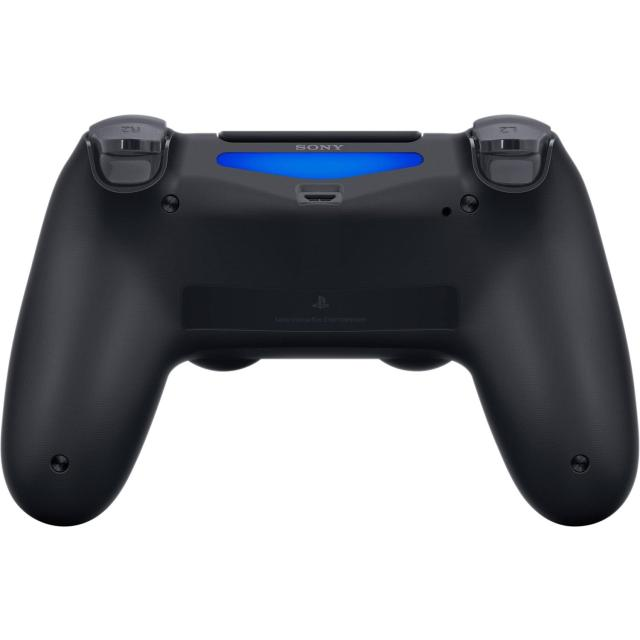ps4_controller: (27, 115, 640, 529)
